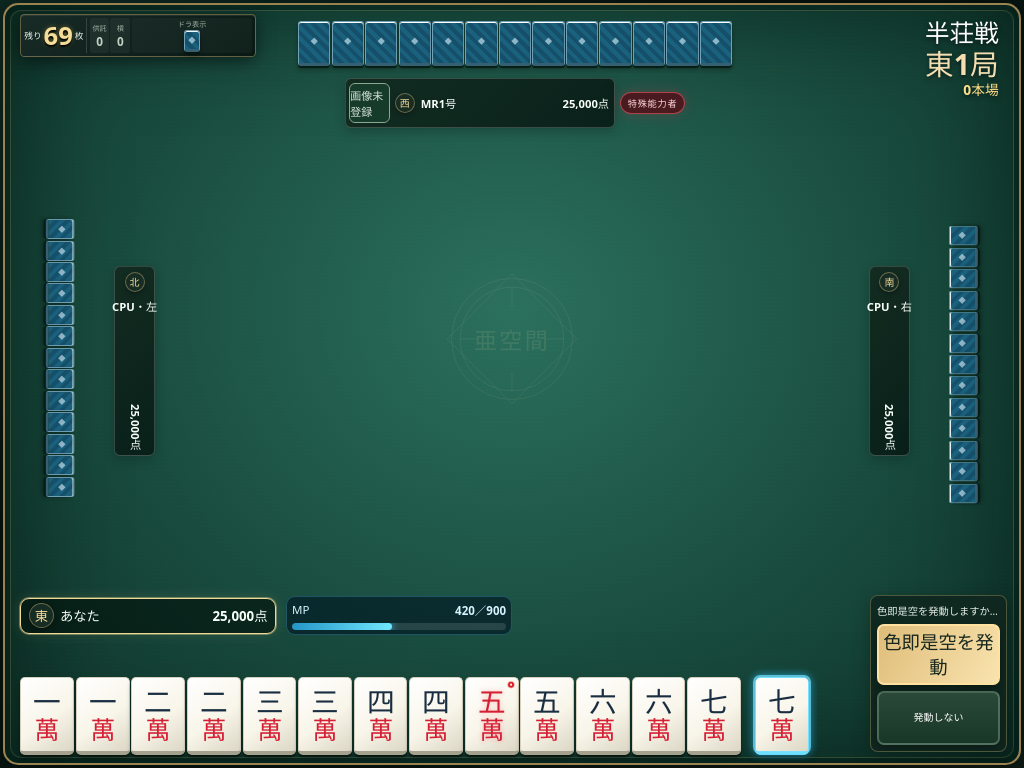
プレイヤースキル3-14の画面操作 › 見送るとMPを消費せず局を開始する
The image size is (1024, 768).
Click the button "発動しない". click: (938, 718)
box: x1=877 y1=691 x2=1000 y2=745
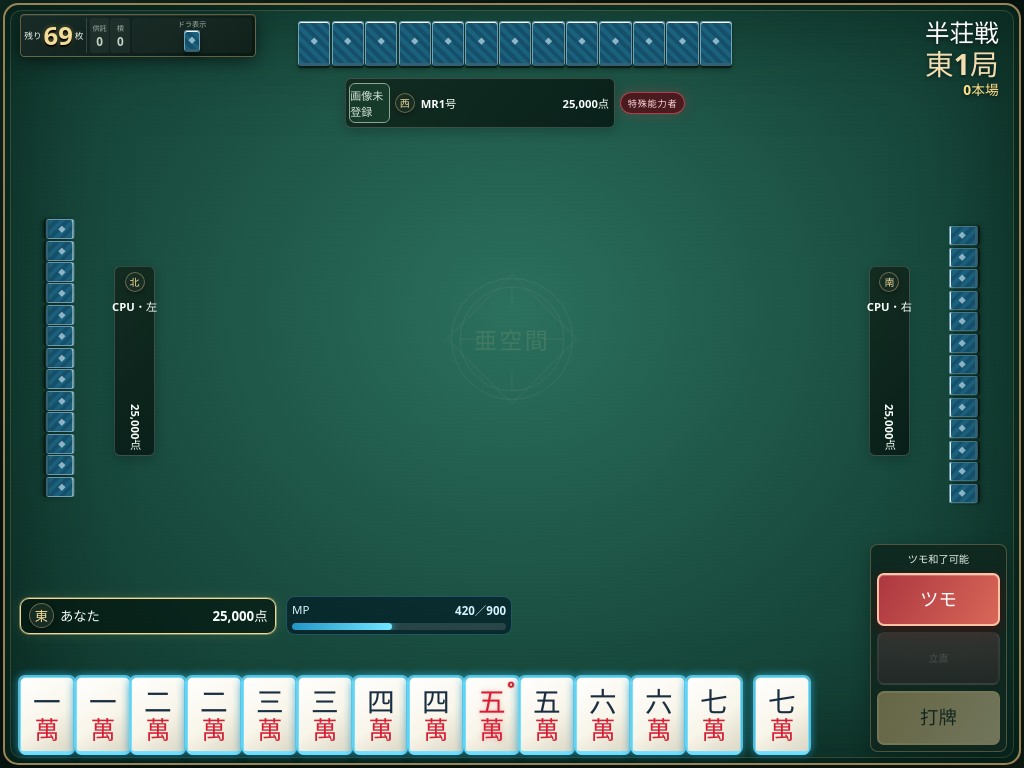
Expected: the text "色即是空を発動" is gone
